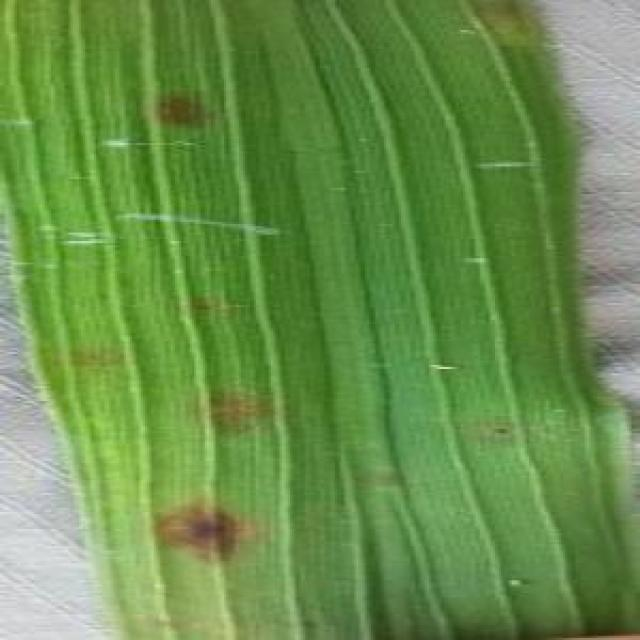brownspots: (143, 484, 254, 566), (140, 76, 230, 134), (196, 384, 278, 427)
